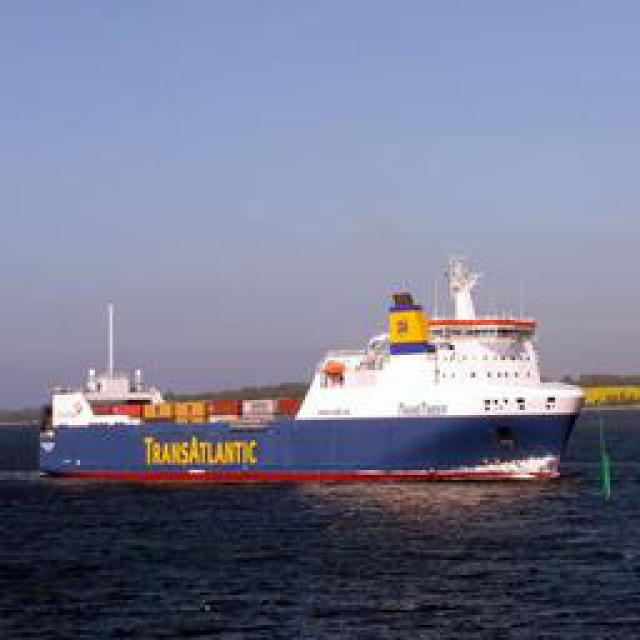Ship: (40, 288, 593, 486)
